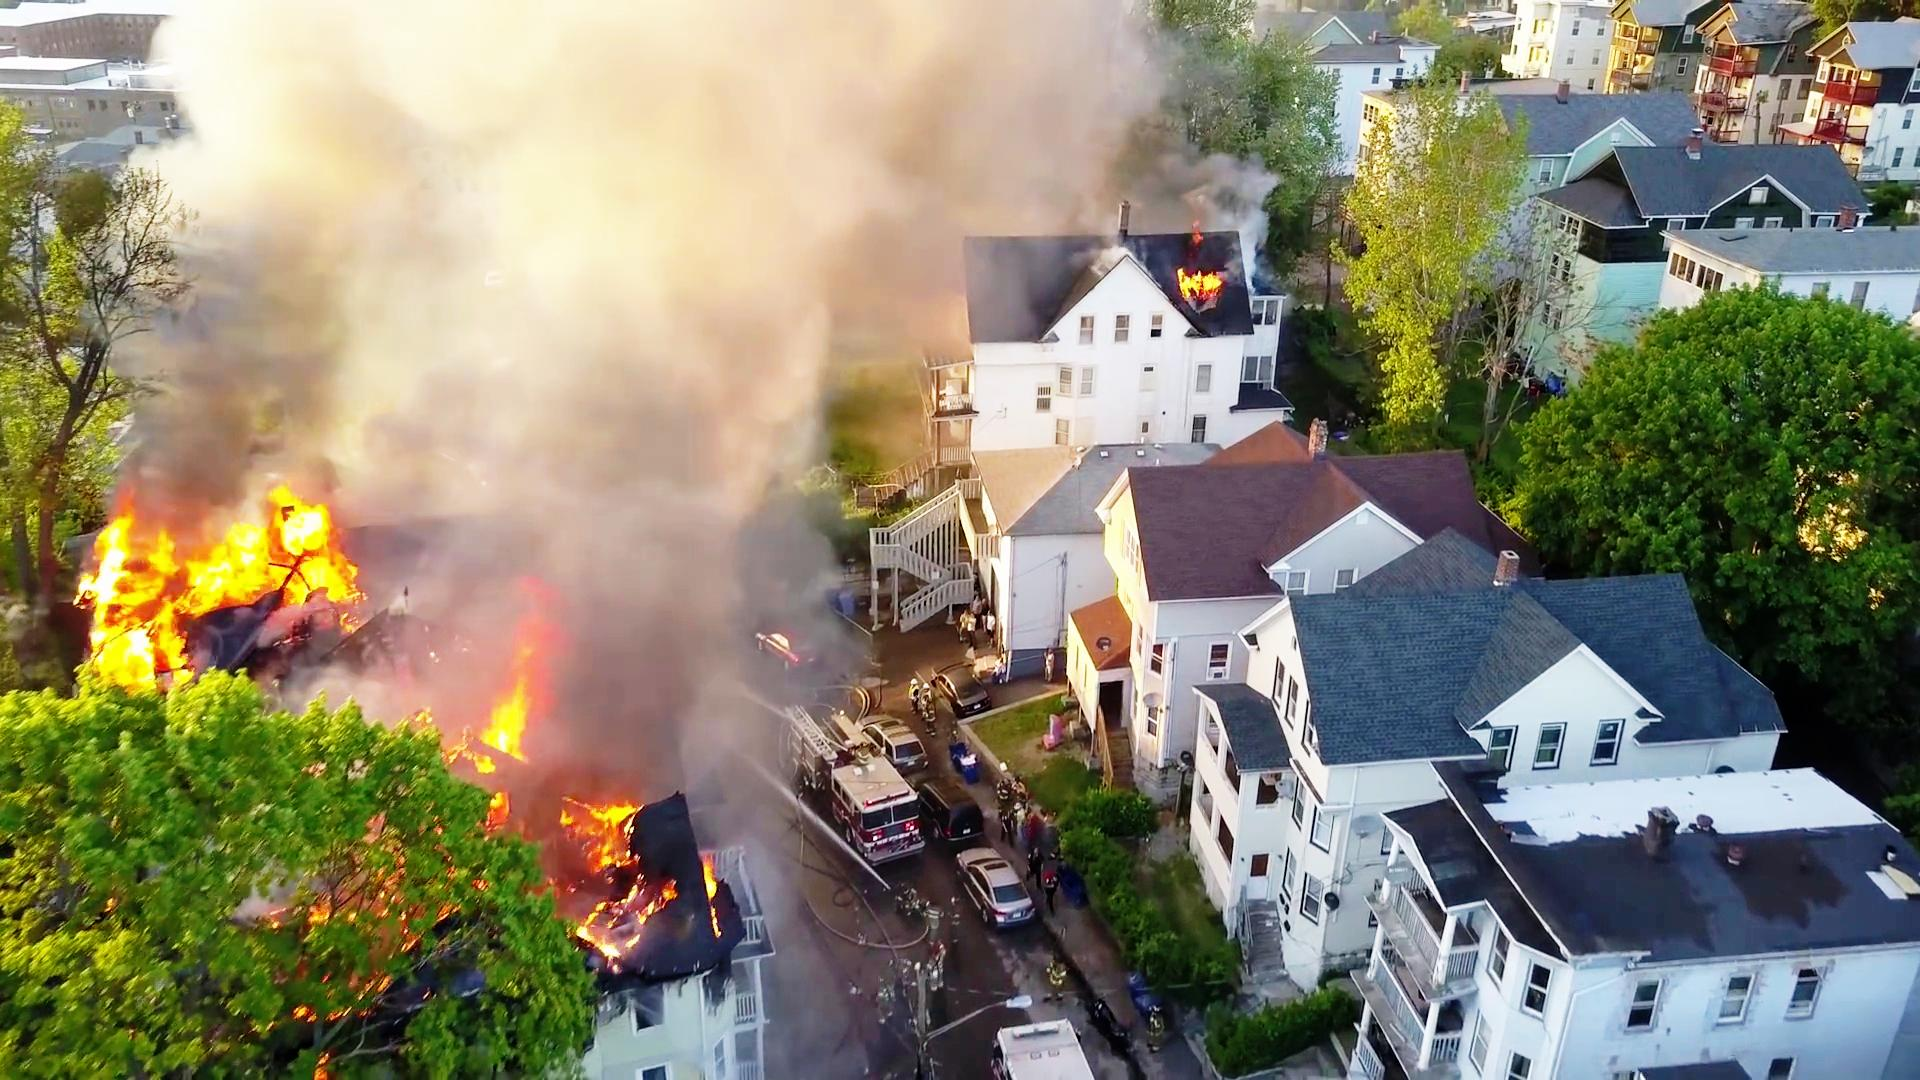fire: (87, 486, 340, 674), (587, 803, 675, 950), (478, 633, 551, 770)
smoke: (275, 0, 725, 463)
